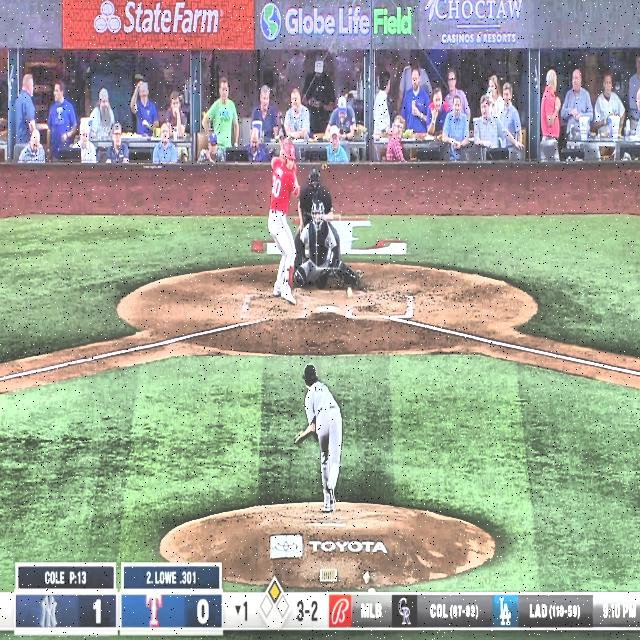baseball: (347, 287, 352, 298)
